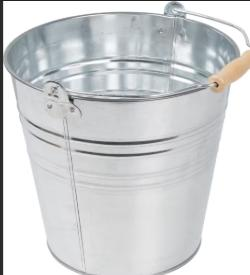SEAU: (4, 4, 250, 270)
